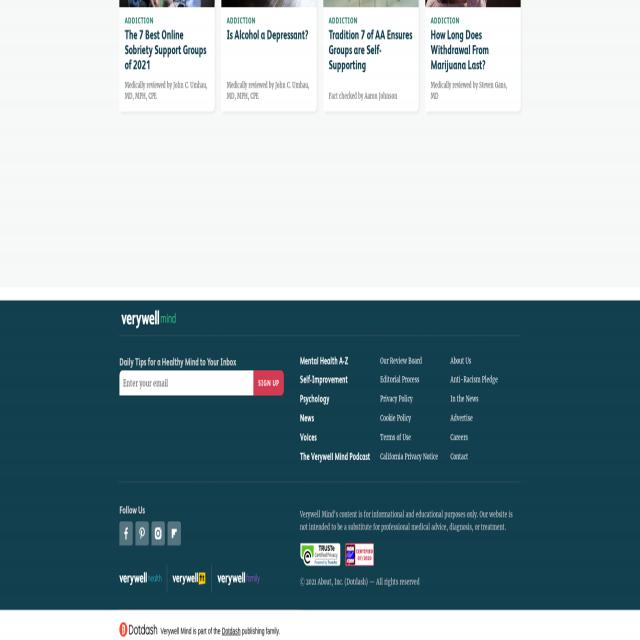button: (424, 0, 522, 113), (323, 0, 420, 112), (119, 0, 215, 111), (221, 0, 317, 111), (120, 310, 178, 328), (300, 543, 340, 566), (117, 620, 159, 640), (254, 370, 284, 396), (345, 543, 374, 566), (217, 572, 261, 586), (120, 572, 162, 586), (172, 572, 206, 586), (151, 522, 165, 546), (119, 522, 133, 545), (168, 522, 182, 545), (136, 523, 149, 545)
field: (120, 370, 253, 396)
